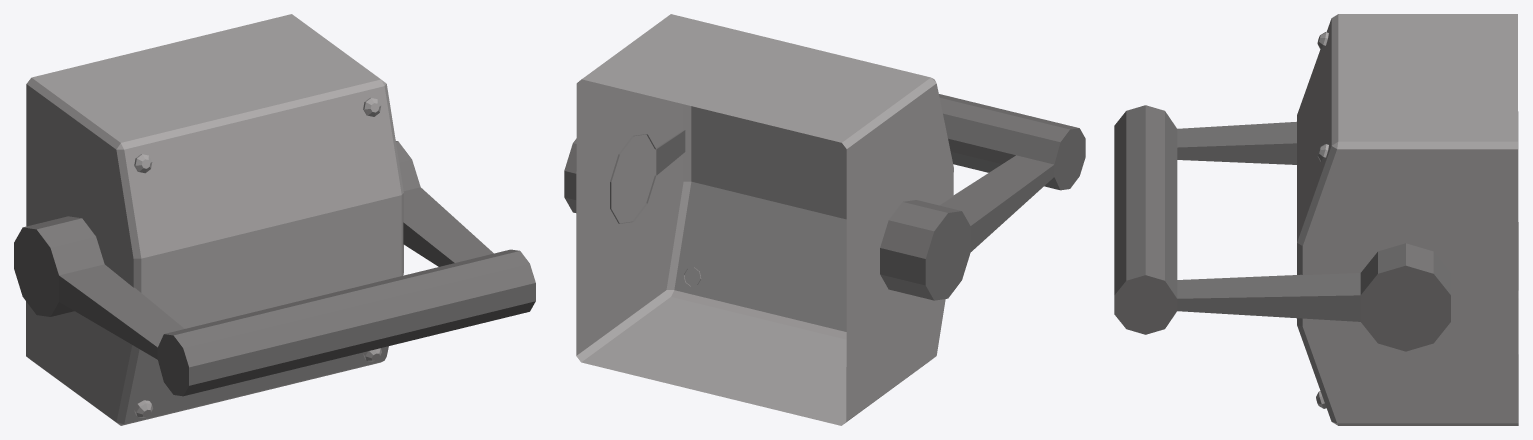
File: MetalFloorLever_8.fbx
The picture shows the model from 3 angles, left to right: view 1: azimuth 30°, elevation 25°; view 2: azimuth 150°, elevation 25°; view 3: azimuth 270°, elevation 25°; orthographic projection.
Parts seen in each view (by area): view 1: MetalFloorLever_8_Casing, MetalFloorLever_8_Handle; view 2: MetalFloorLever_8_Casing, MetalFloorLever_8_Handle; view 3: MetalFloorLever_8_Casing, MetalFloorLever_8_Handle.
Part boxes in pixels (x1,y1,x2,y2): MetalFloorLever_8_Casing: (26,14,403,425); MetalFloorLever_8_Handle: (14,141,535,396); MetalFloorLever_8_Casing: (576,14,953,425); MetalFloorLever_8_Handle: (564,94,1085,300); MetalFloorLever_8_Casing: (1297,14,1518,425); MetalFloorLever_8_Handle: (1114,105,1450,351).
Bounding box in the file's own units: 53.51 × 40.01 × 51.58.
